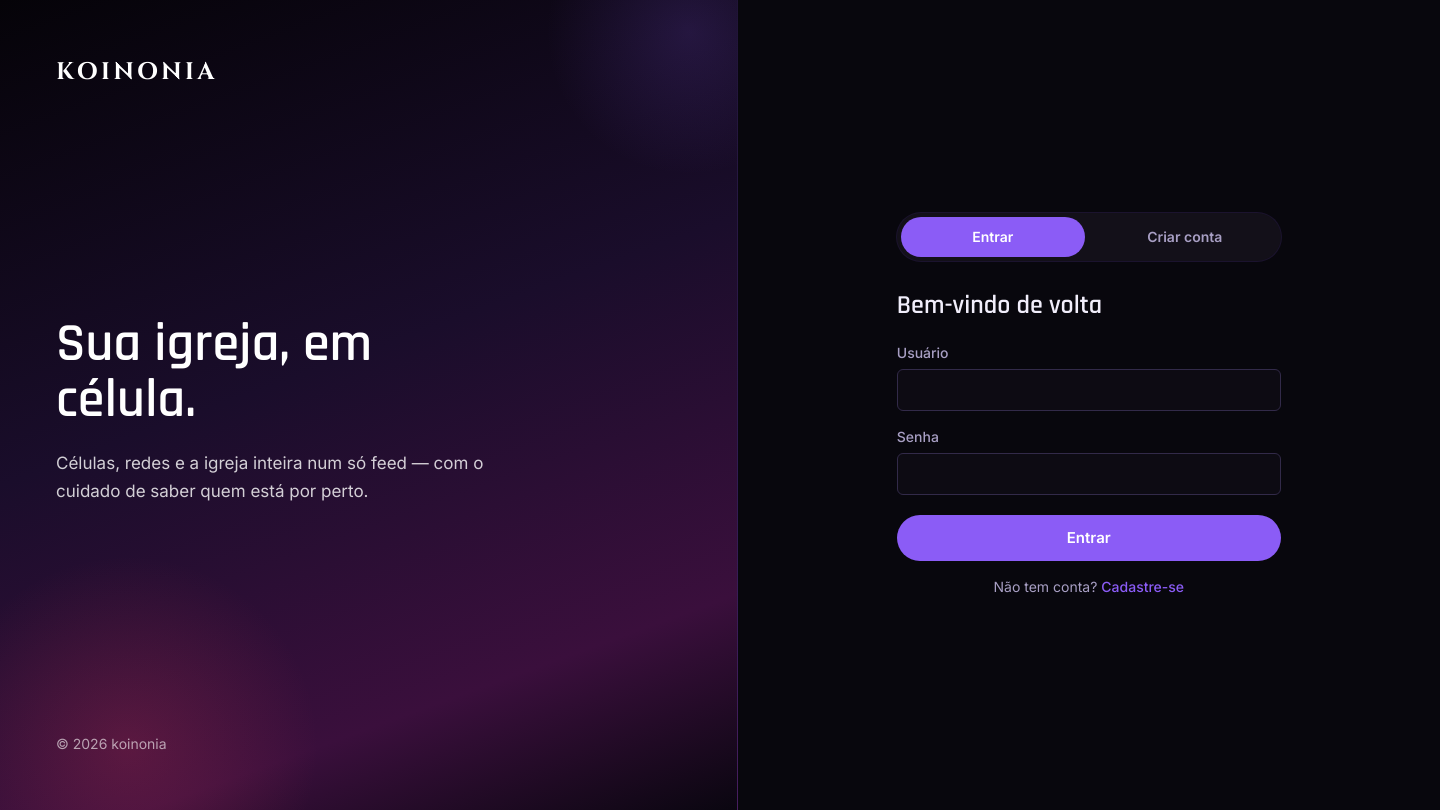
Test: LoginPage › mostra o erro do backend com credenciais inválidas
Type "wills" into the field labelled "Usuário". click: (1089, 390)
box: [897,369,1281,411]
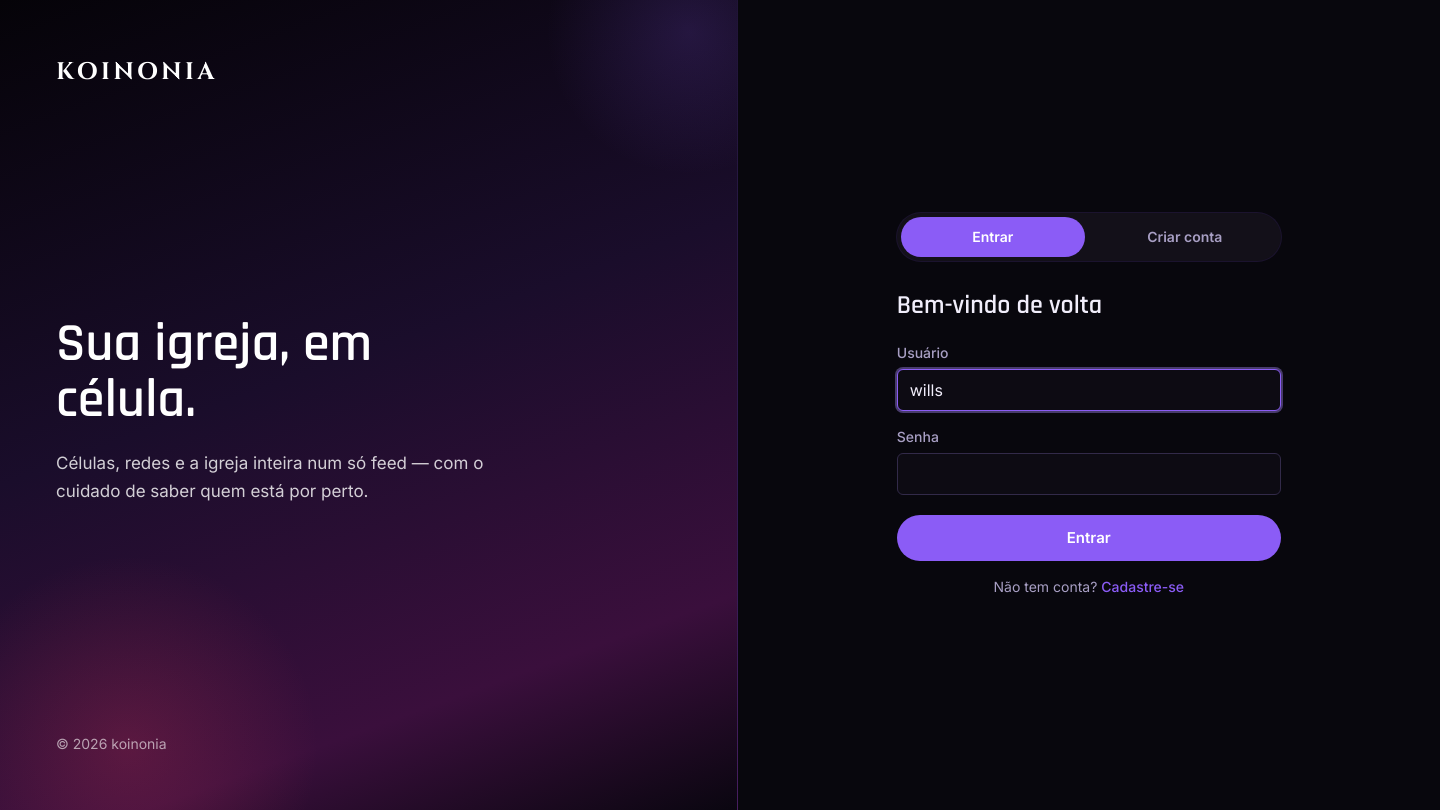
Type "senha-errada" into the password field labelled "Senha". click: (1089, 474)
box: [897,453,1281,495]
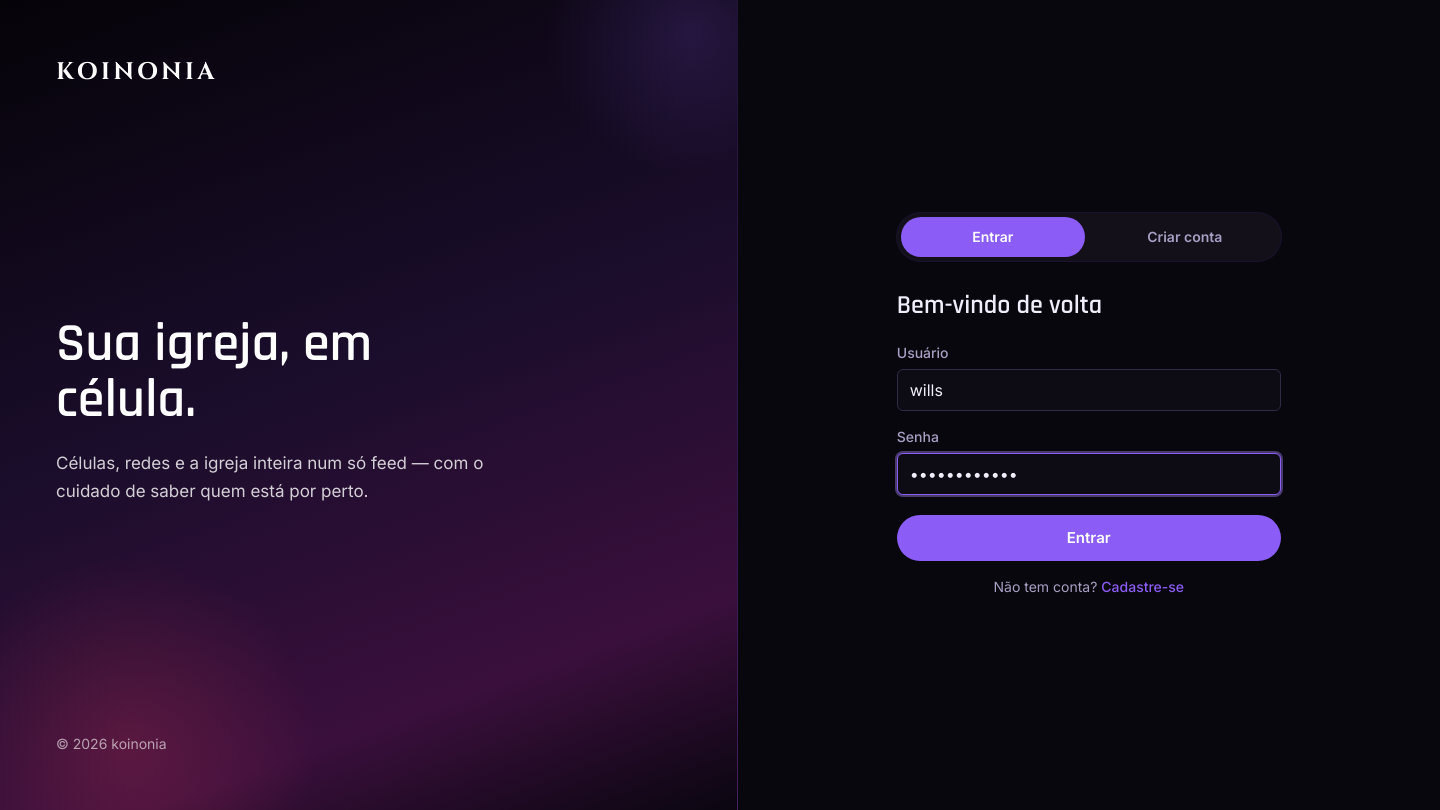
Click the button "Entrar". click: (1089, 538)
box: [897,515,1281,561]
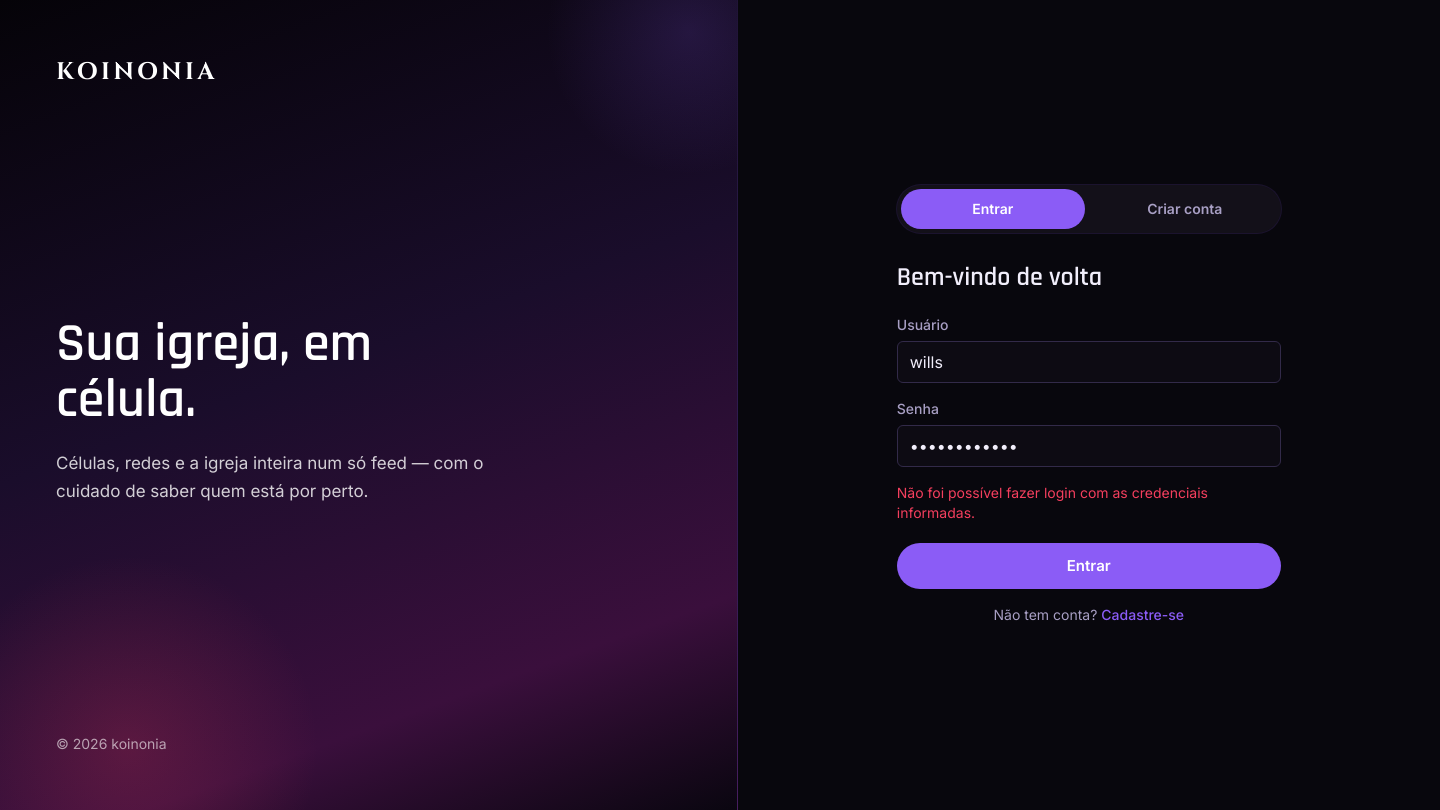
Expected: the text "Não foi possível fazer login com as credenciais informadas." is shown, [897,484,1208,521]
